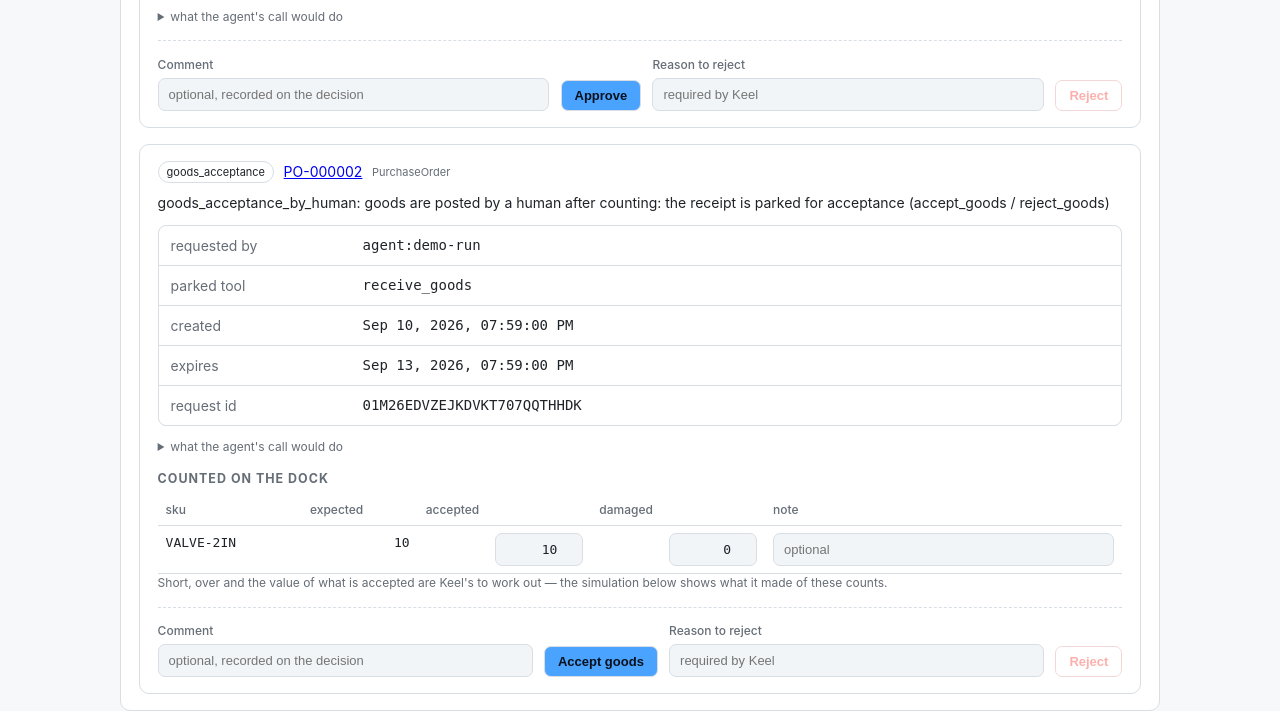
Test: Accepting goods › reads short, over and the value back from Keel rather than working them out
The image size is (1280, 711).
(page scrolled)
Replace the text in the number field named "accepted VALVE-2IN" with "7". click: (539, 550)
box: [495,533,583,566]
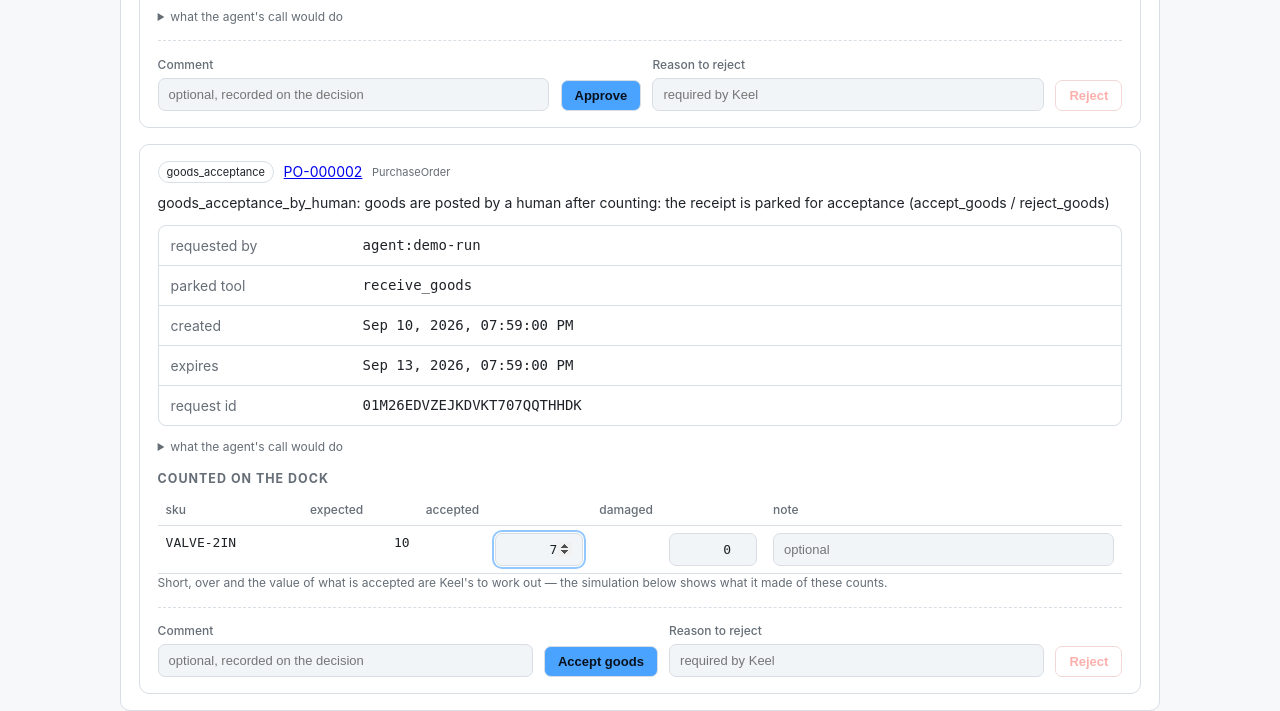
Click the button "Accept goods". click: click(601, 662)
box: [544,646,658,677]
(page scrolled)
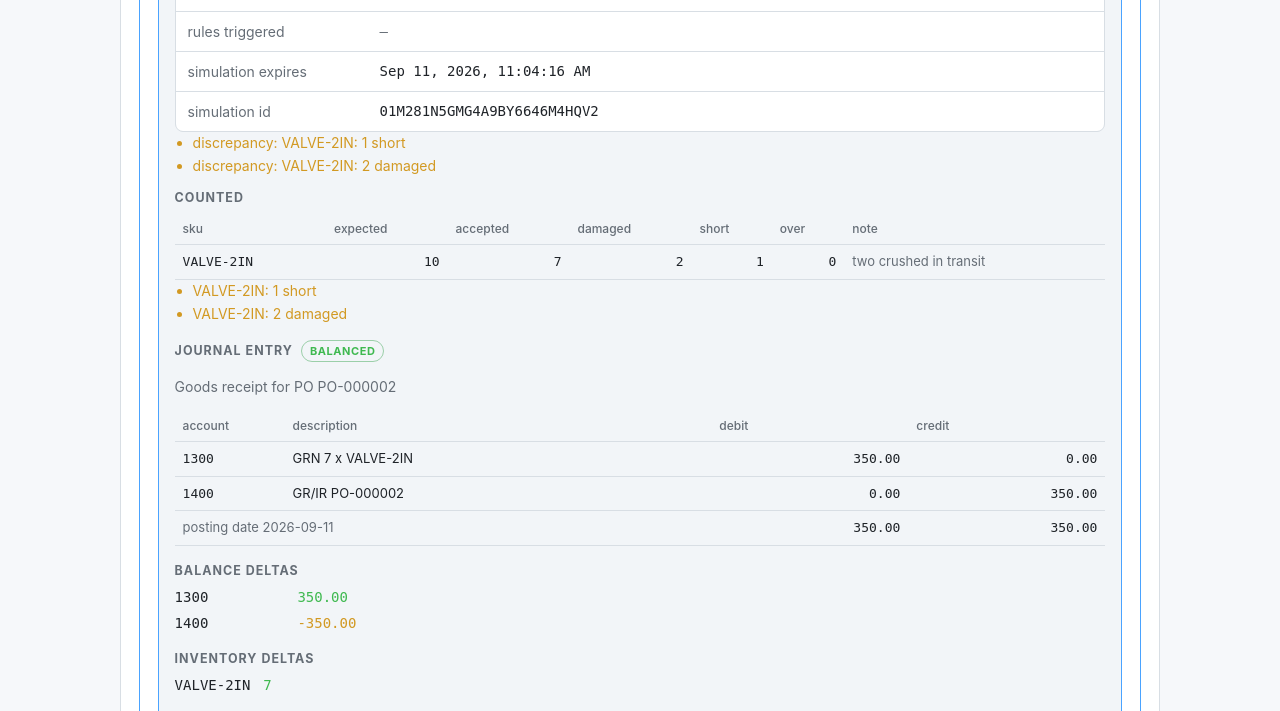
Expected: the list item "VALVE-2IN: 1 short" is shown, [193,282,317,299]
Expected: the list item "VALVE-2IN: 2 damaged" is shown, [193,305,347,322]
Expected: the text "350.00" is shown 5 times, [711,442,908,476]; [908,476,1105,511]; [711,511,908,545]; [908,511,1105,545]; [297,587,348,608]
